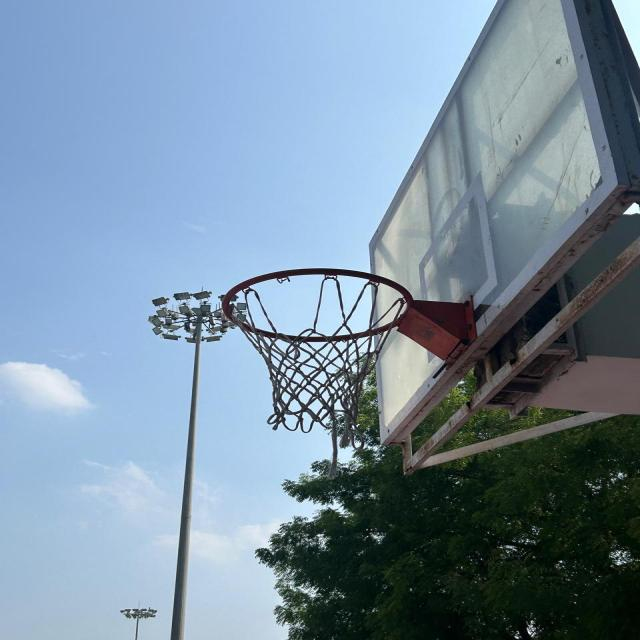hoop: (215, 269, 486, 448)
